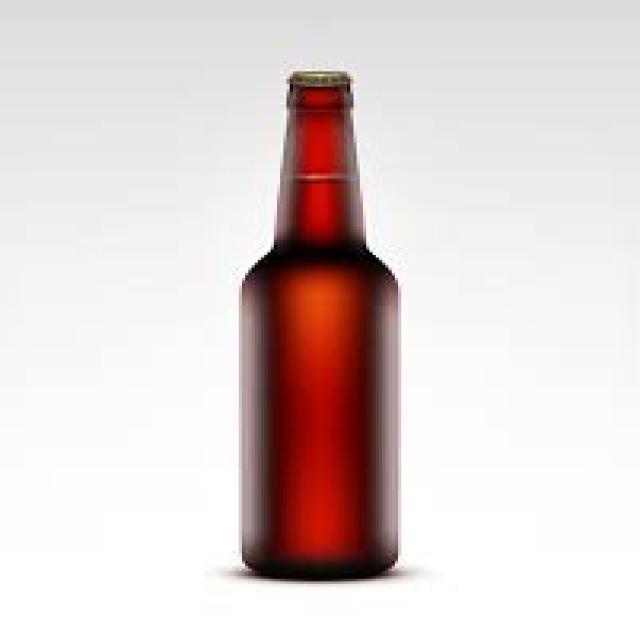glass: (236, 76, 395, 579)
metal: (287, 66, 350, 87)
